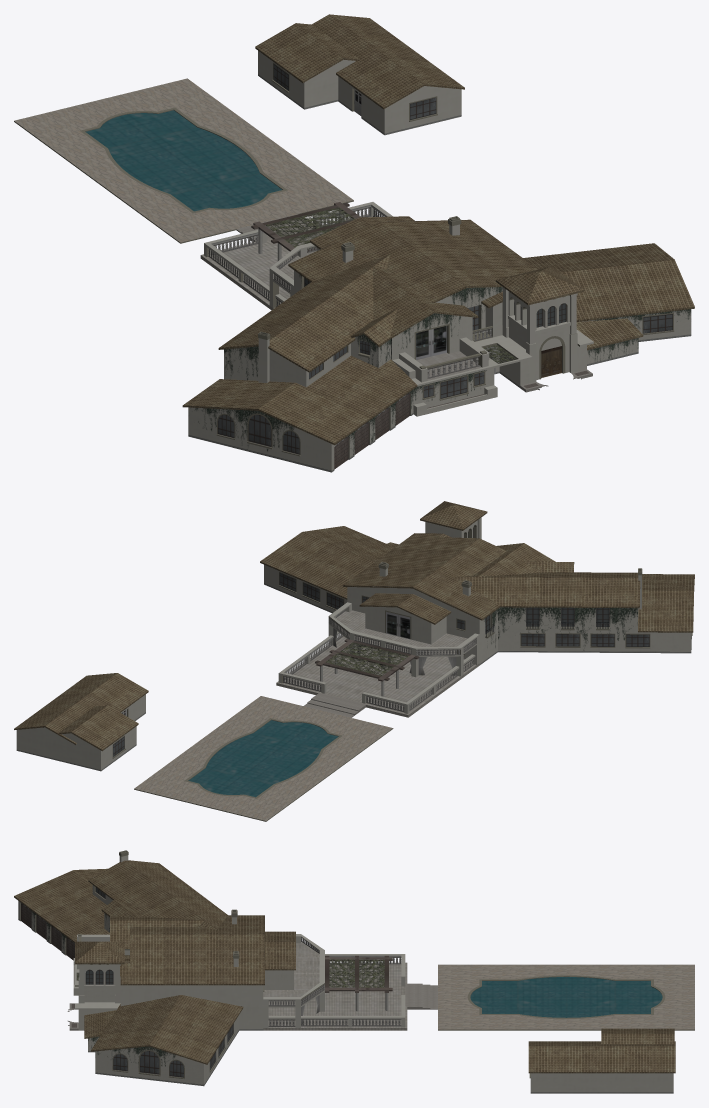
Rendered from mansion_5.glb.
3 renders of one model, top to bottom at view 1: azimuth 30°, elevation 25°; view 2: azimuth 150°, elevation 25°; view 3: azimuth 270°, elevation 25°, orthographic. The views are drawn at different scales.
Visible parts, largest first — view 1: mansion5; view 2: mansion5; view 3: mansion5.
Part boxes in pixels (x1=…): mansion5: x1=14, y1=14, x2=694, y2=472; mansion5: x1=14, y1=501, x2=694, y2=821; mansion5: x1=14, y1=850, x2=694, y2=1093.
Size of the model in its own units: 6214 by 1091 by 8818.
1 material, 1 textured.
